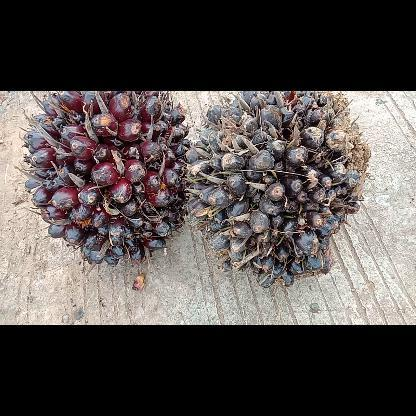TBS mentah: (183, 90, 372, 288), (21, 90, 196, 272)
